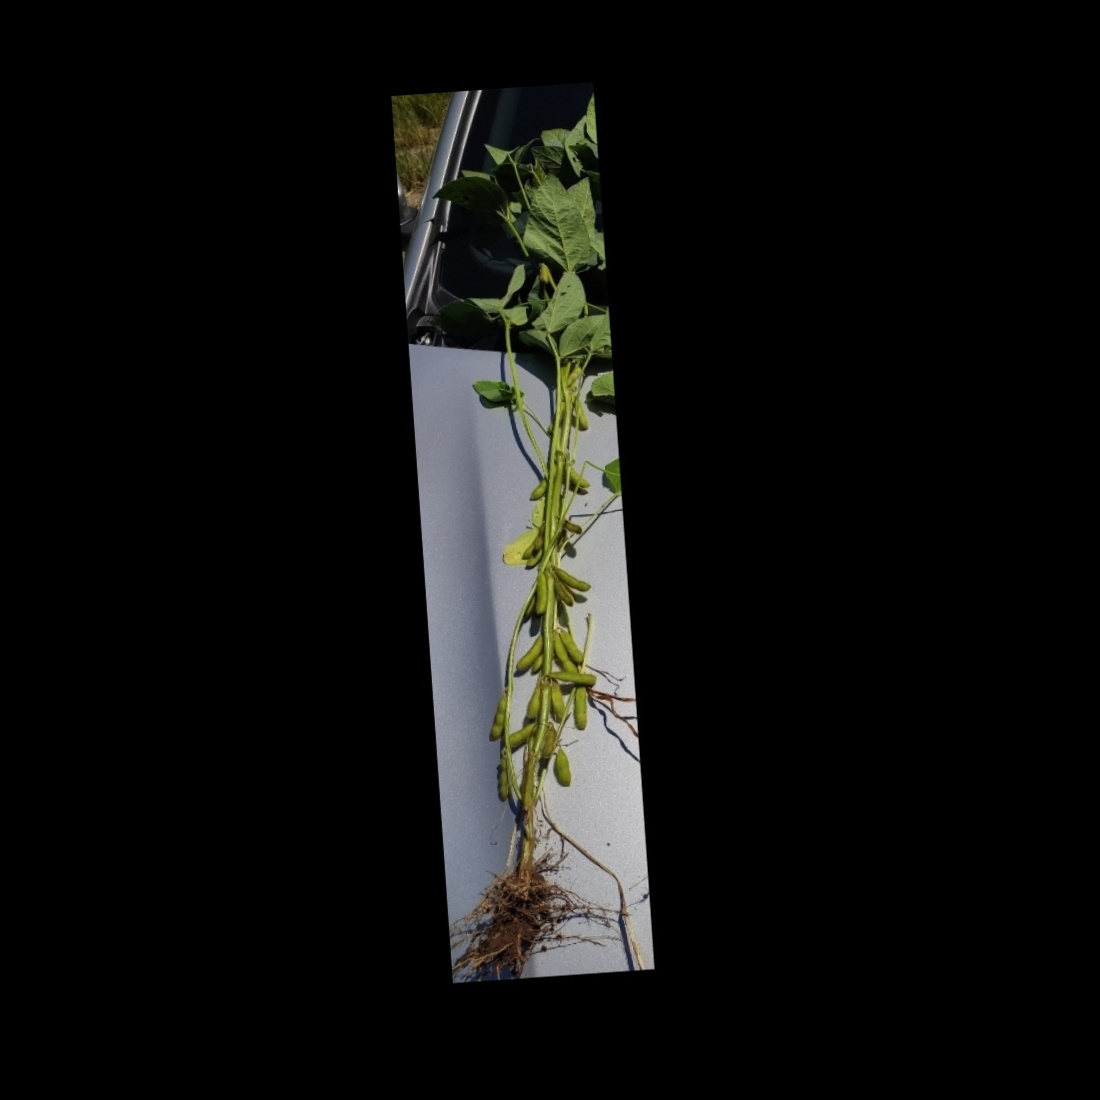pod: (511, 630, 546, 677), (553, 622, 584, 666), (486, 688, 509, 747), (568, 679, 590, 735), (541, 669, 604, 687), (555, 565, 593, 593), (552, 742, 573, 792), (530, 565, 549, 620), (520, 679, 543, 721), (494, 751, 511, 807)
soy: (396, 103, 654, 985)
